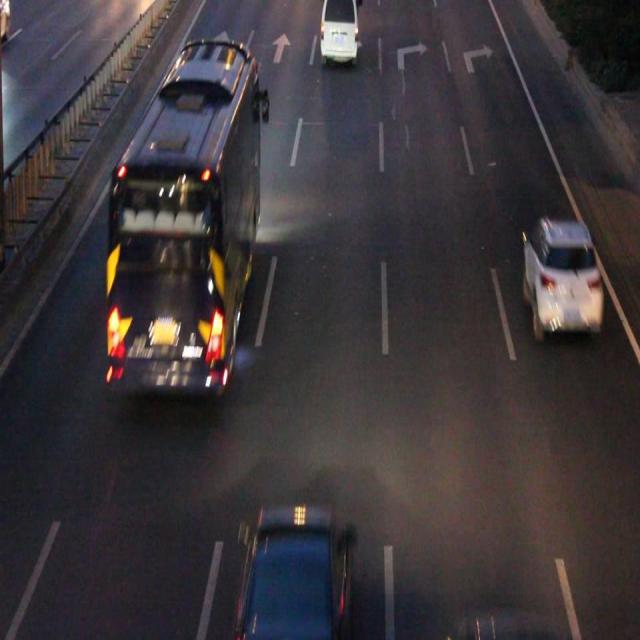car: (241, 511, 348, 640), (521, 221, 600, 330)
truck: (320, 1, 356, 61)
van: (109, 43, 259, 388)
